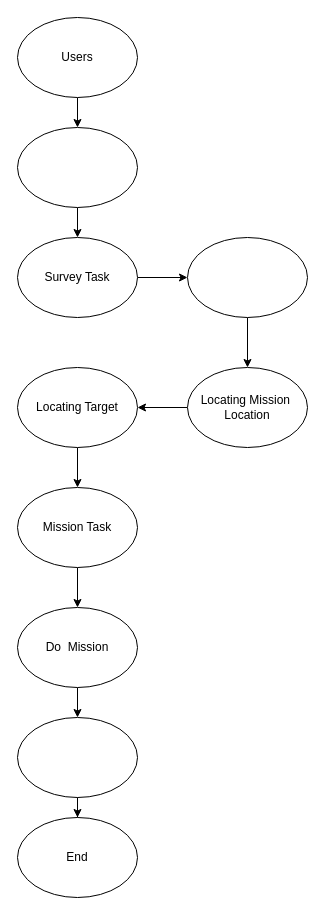
The diagram is 325 pixels wide and 915 high, and some of its shapes have lost their labels. Here are the shapes that lost their labels. From the top down, the centre of each, then its label:
At (x=77, y=167): "Autonomous take-off".
At (x=247, y=277): "Digital Mapping".
At (x=77, y=757): "Autonomous Landing".
